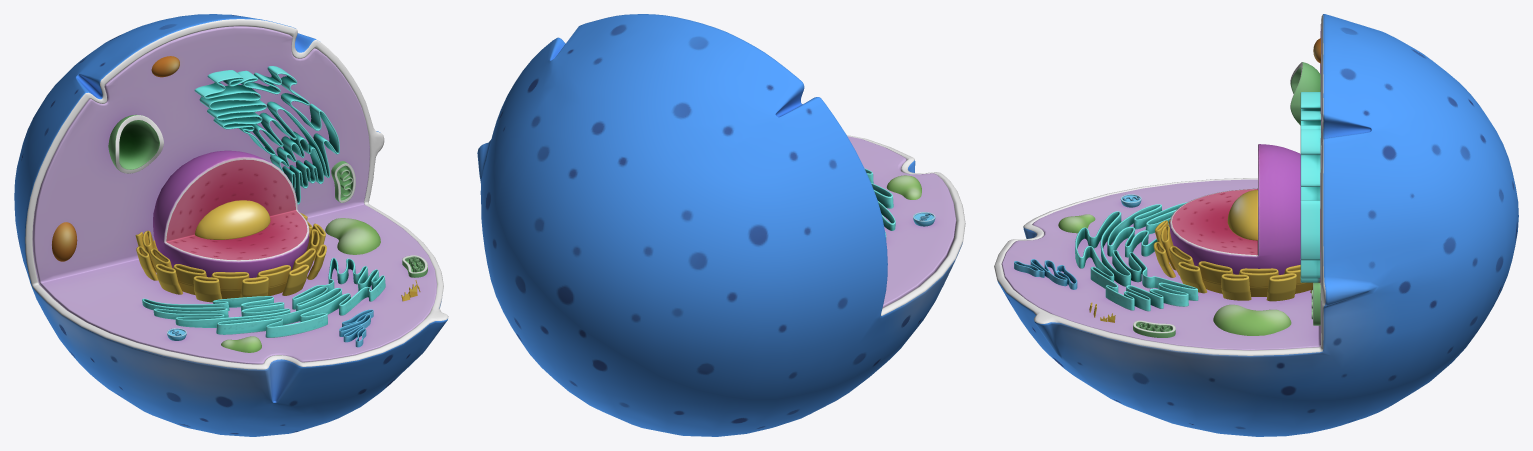
The model's file is animal_cell_229_team_9.fbx.
3 views of the same model, side by side, from view 1: azimuth 30°, elevation 25°; view 2: azimuth 150°, elevation 25°; view 3: azimuth 270°, elevation 25° (orthographic). The views are drawn at different scales.
Visible parts, largest first — view 1: node_76b3e1fd_f38a_401e_a8e7_ceafca799b6a_mesh0, node_834d31ab_b98c_4a6f_bce4_9732a2dcb9e9_mesh0; view 2: node_76b3e1fd_f38a_401e_a8e7_ceafca799b6a_mesh0, node_834d31ab_b98c_4a6f_bce4_9732a2dcb9e9_mesh0; view 3: node_76b3e1fd_f38a_401e_a8e7_ceafca799b6a_mesh0, node_834d31ab_b98c_4a6f_bce4_9732a2dcb9e9_mesh0.
Boxes of the visible parts, box(x1,y1,x2,y2) form: node_76b3e1fd_f38a_401e_a8e7_ceafca799b6a_mesh0: box(14, 14, 448, 436); node_834d31ab_b98c_4a6f_bce4_9732a2dcb9e9_mesh0: box(32, 26, 436, 364); node_76b3e1fd_f38a_401e_a8e7_ceafca799b6a_mesh0: box(477, 14, 965, 436); node_834d31ab_b98c_4a6f_bce4_9732a2dcb9e9_mesh0: box(847, 136, 956, 307); node_76b3e1fd_f38a_401e_a8e7_ceafca799b6a_mesh0: box(994, 14, 1518, 436); node_834d31ab_b98c_4a6f_bce4_9732a2dcb9e9_mesh0: box(1001, 23, 1321, 350).
Bounding box in the file's own units: 51.2 × 49.28 × 61.7.
1 material, 1 textured.
